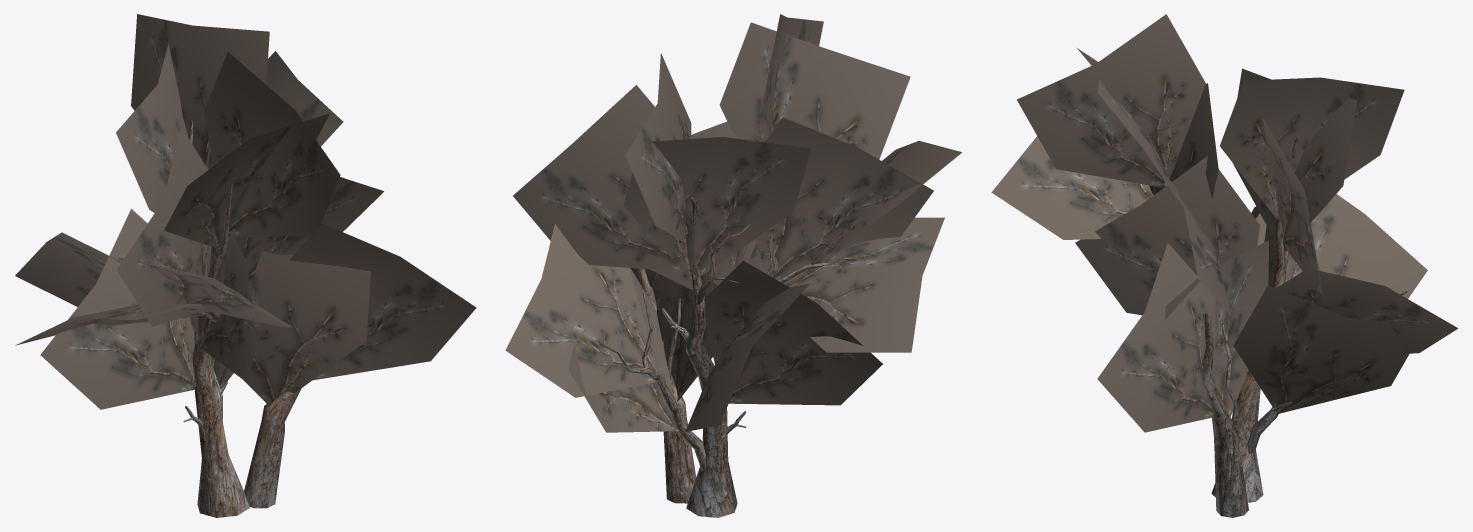
File: Deadtree2.fbx
3 views of the same model, side by side, from view 1: azimuth 30°, elevation 25°; view 2: azimuth 150°, elevation 25°; view 3: azimuth 270°, elevation 25° (orthographic). The views are drawn at different scales.
Parts seen in each view (by area): view 1: polySurface111; view 2: polySurface111; view 3: polySurface111.
Boxes of the visible parts, box(x1,y1,x2,y2) form: polySurface111: box(15, 14, 476, 517); polySurface111: box(505, 14, 961, 517); polySurface111: box(991, 14, 1457, 517).
Size of the model in its own units: 5.14 by 6.24 by 5.66.
